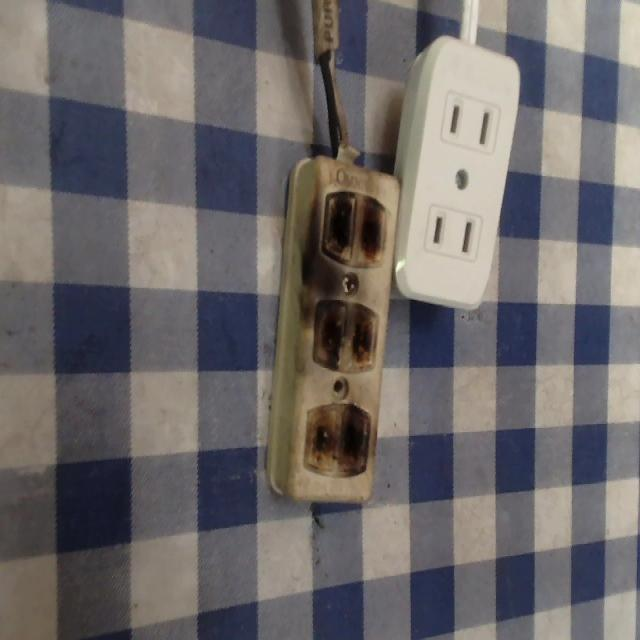-: (318, 185, 392, 272), (308, 402, 379, 487), (311, 297, 378, 373)
